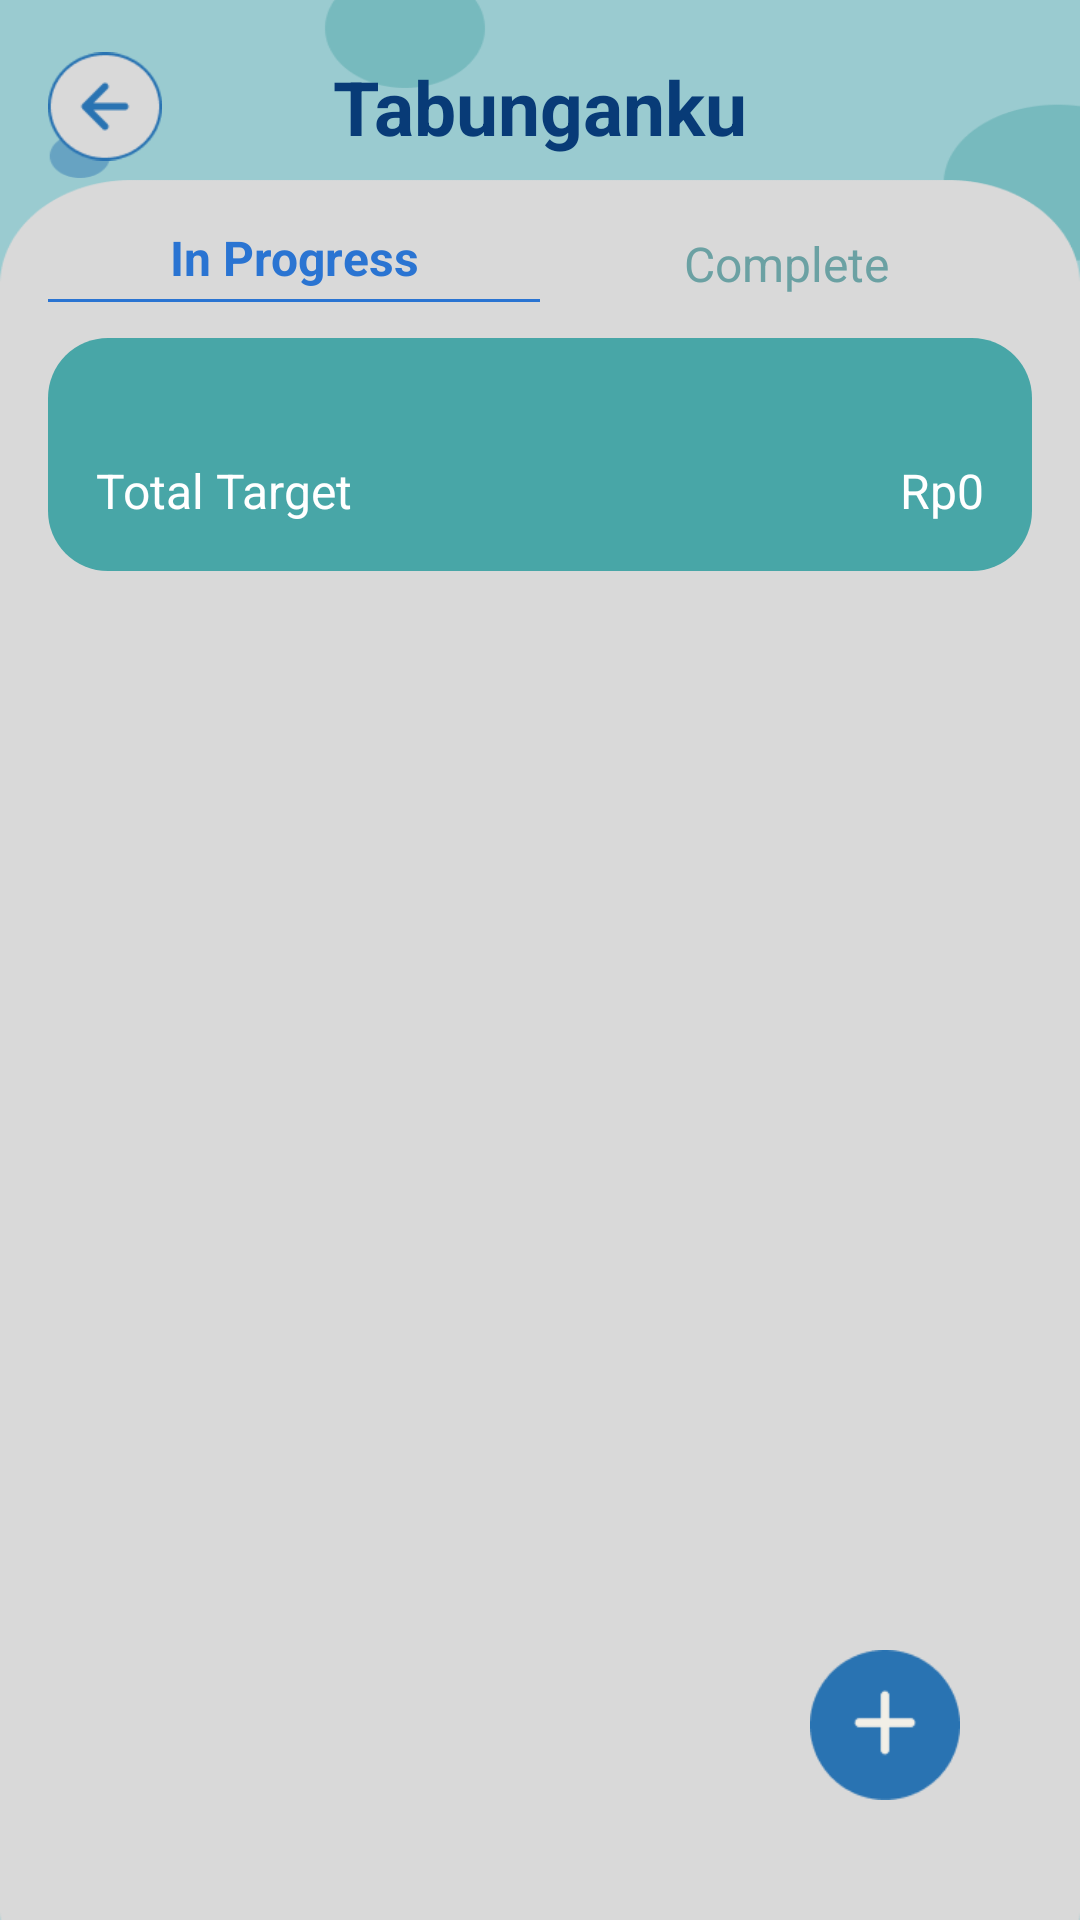

Locate icon controls on the screen. Image size 1080*1920, boxes as (x1, y1, x2, y2).
Add: (810, 1650, 960, 1800)
tombol back: (48, 52, 162, 165)
